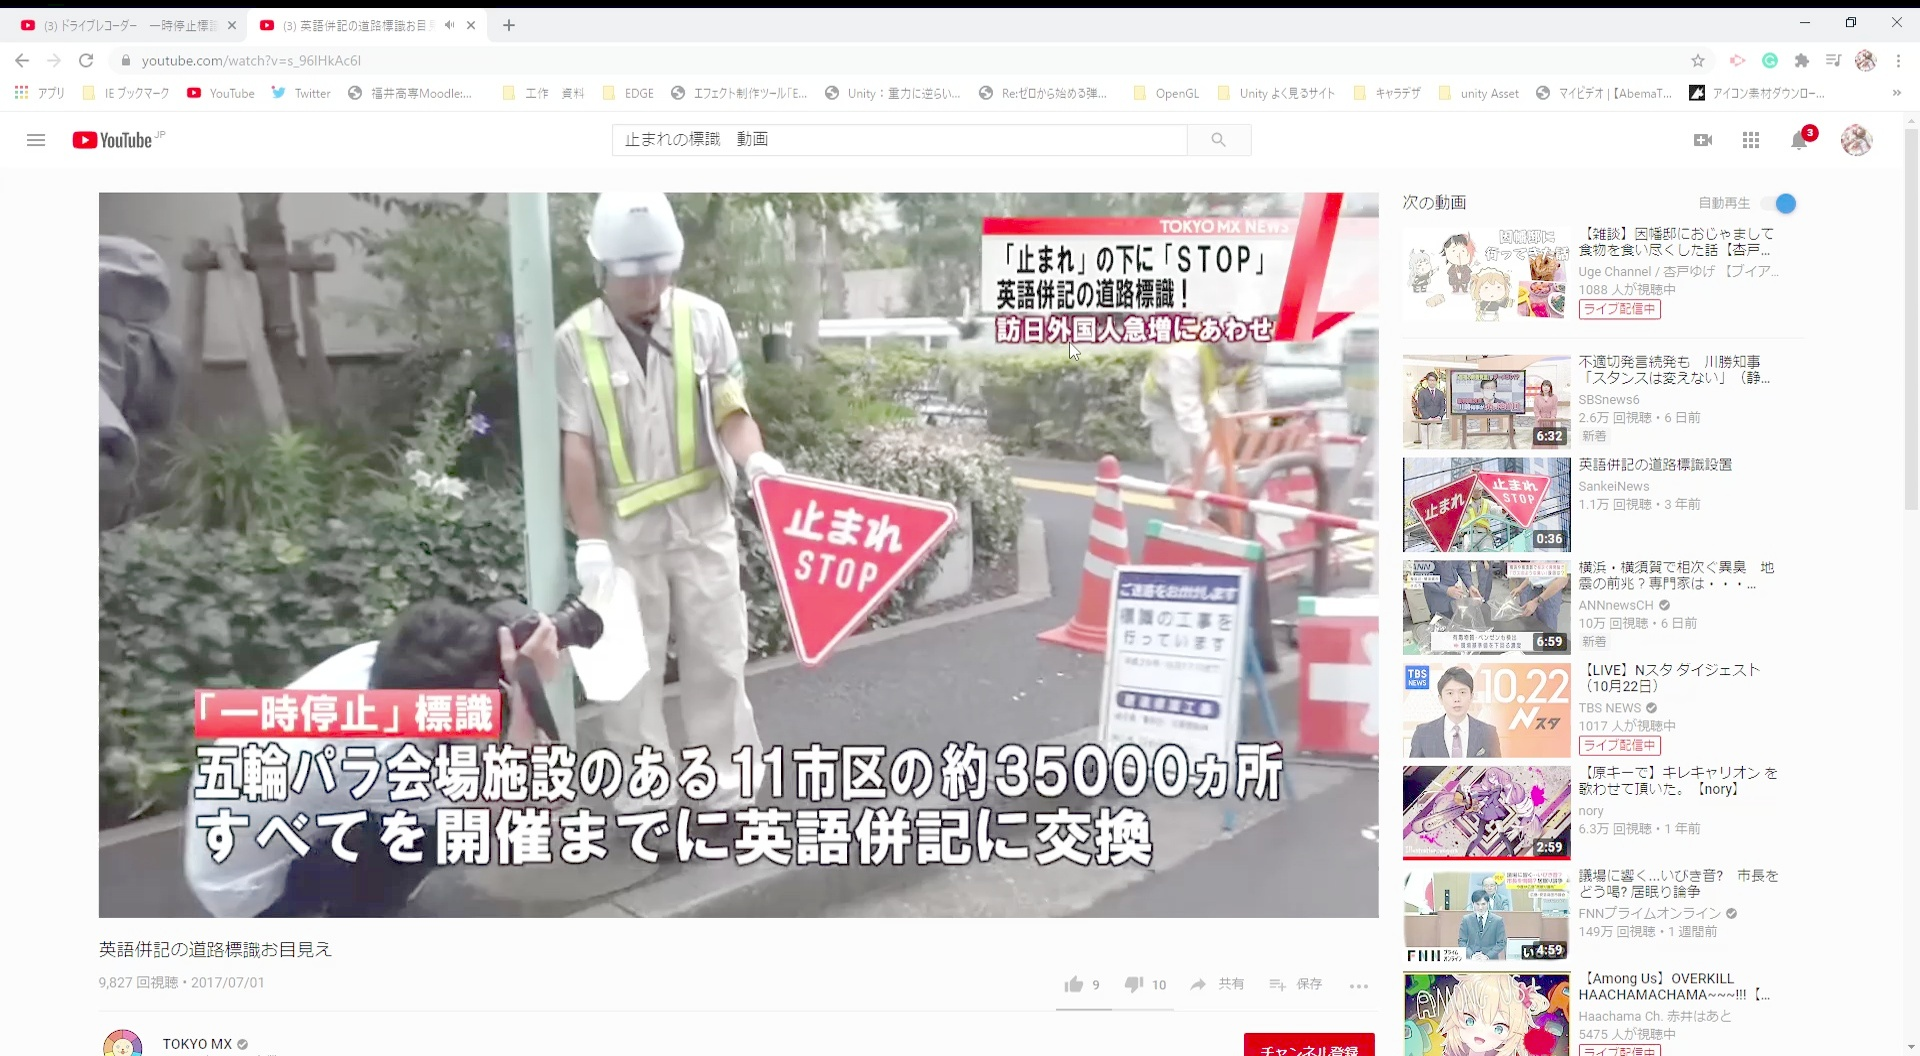Regulatory_sign_triangle: (744, 450, 976, 665)
